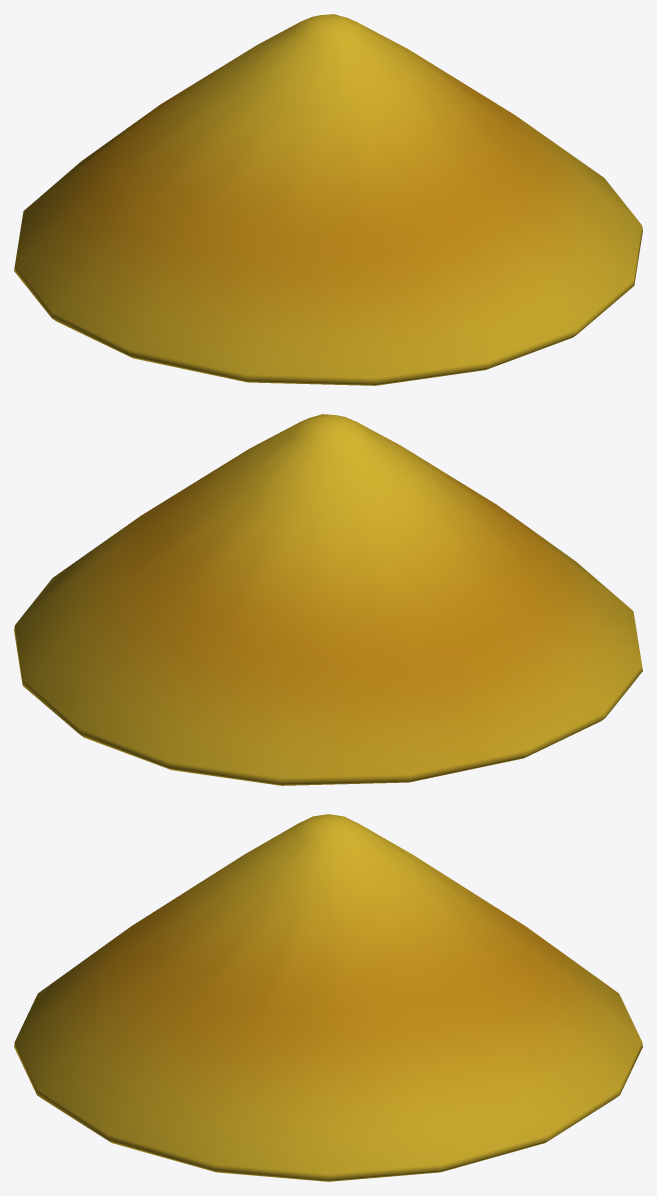
Rendered from Rice.glb.
3 renders of one model, top to bottom at view 1: azimuth 30°, elevation 25°; view 2: azimuth 150°, elevation 25°; view 3: azimuth 270°, elevation 25°, orthographic.
Parts seen in each view (by area): view 1: m_RiceHat01; view 2: m_RiceHat01; view 3: m_RiceHat01.
Boxes of the visible parts, x1=… form: m_RiceHat01: x1=14, y1=14, x2=642, y2=385; m_RiceHat01: x1=14, y1=414, x2=642, y2=785; m_RiceHat01: x1=14, y1=814, x2=642, y2=1181.
Size of the model in its own units: 1.08 by 0.4403 by 1.08.
1 material, 1 textured.
